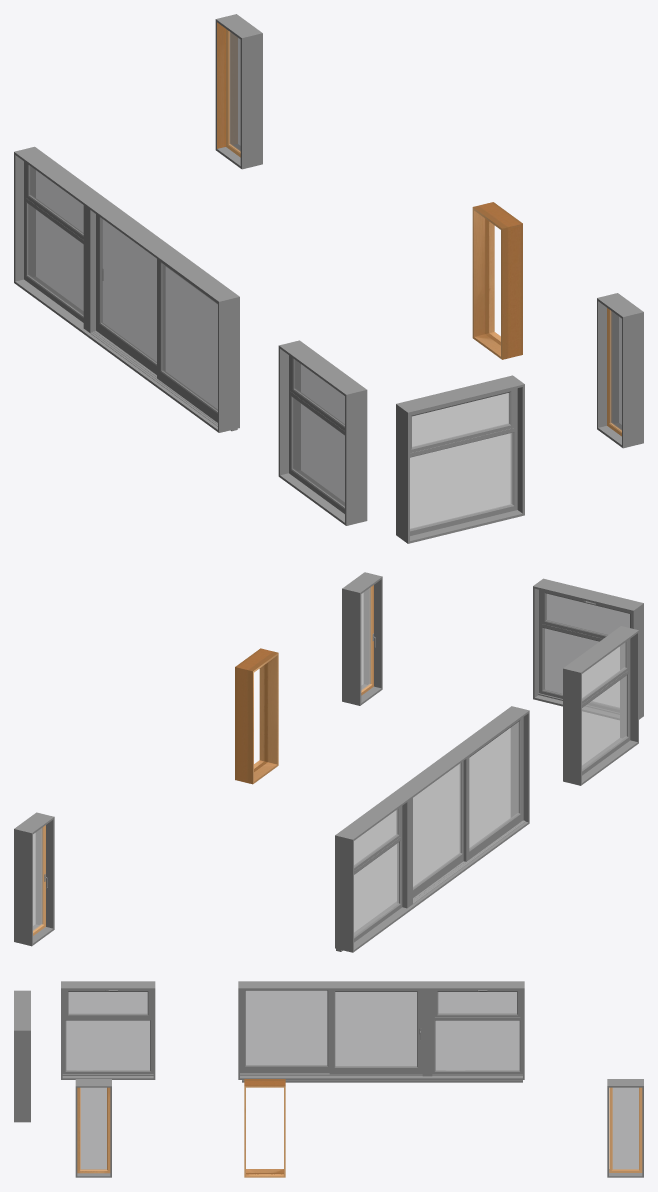
Rendered from Aluminium_Window.glb.
The picture shows the model from 3 angles, top to bottom: view 1: azimuth 30°, elevation 25°; view 2: azimuth 150°, elevation 25°; view 3: azimuth 270°, elevation 25°; orthographic projection. The views are drawn at different scales.
Visible parts, largest first — view 1: Aluminuim_Window; view 2: Aluminuim_Window; view 3: Aluminuim_Window.
Part boxes in pixels (bbox=[...]): Aluminuim_Window: bbox=[14, 14, 643, 543]; Aluminuim_Window: bbox=[14, 572, 643, 952]; Aluminuim_Window: bbox=[14, 981, 643, 1177].
Bounding box in the file's own units: 2.18 × 0.91 × 5.52.
Materials: 3 (1 with a texture image).
